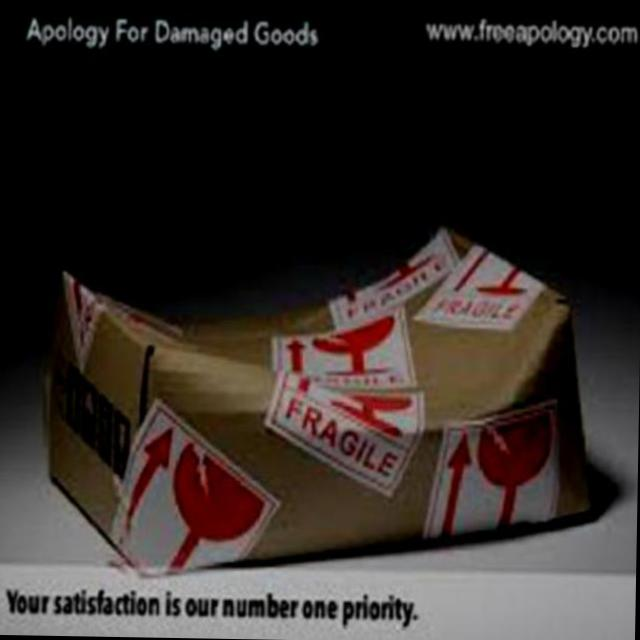box: (241, 187, 393, 332), (92, 295, 233, 447), (478, 257, 625, 375), (383, 269, 505, 386), (293, 304, 406, 410), (213, 325, 323, 432)
